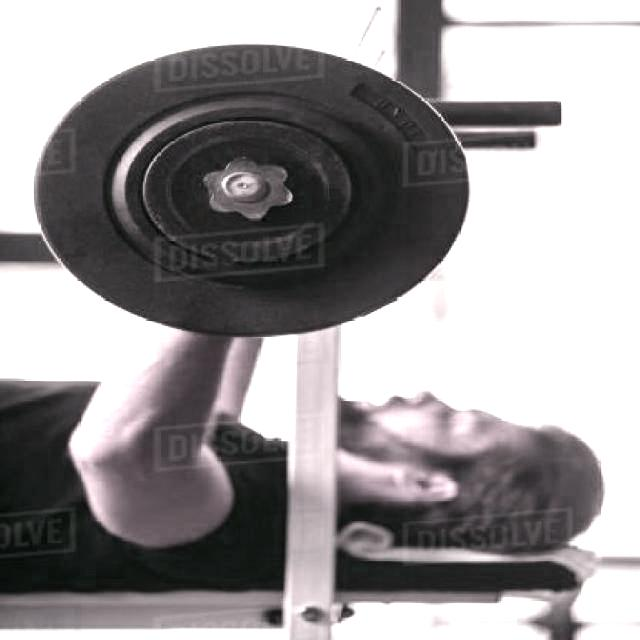barbell: (25, 46, 479, 350)
